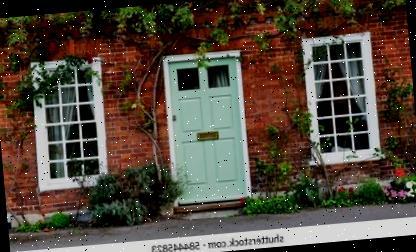door: (158, 47, 256, 213)
